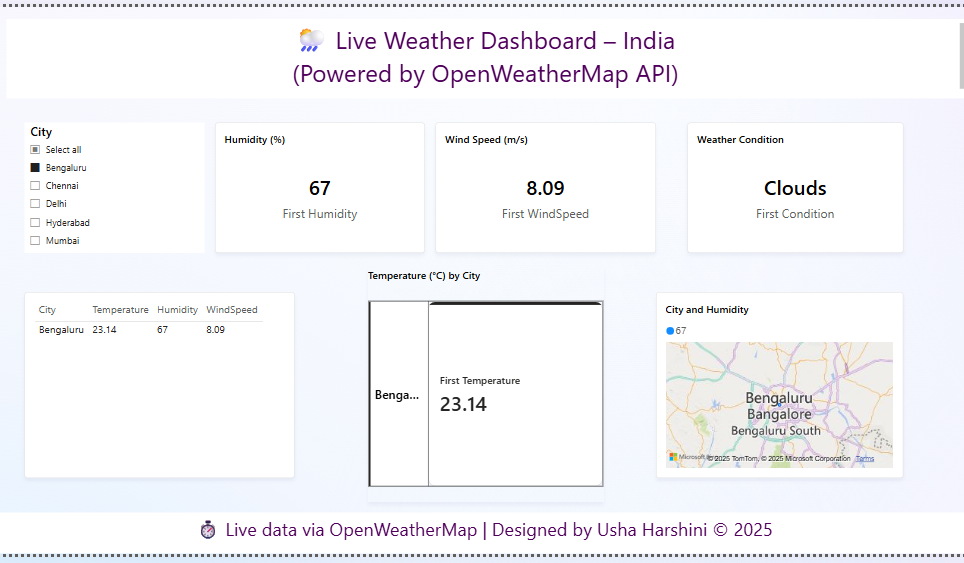

The dashboard page shown, as its layout file describes it:
{"tool":"powerbi","page":{"name":"Page 1","canvas":[1280,720],"ordinal":0},"visuals":[{"type":"textbox","box":[9.9,15.8,1269.5,104.8],"z":0},{"type":"slicer","fields":{"Values":["Query1.City"]},"box":[33.6,152.3,237.3,172],"z":1},{"type":"card","title":"Humidity (%)","fields":{"Values":["Min(Query1.Humidity)"]},"box":[284.7,152.3,276.8,172],"z":6},{"type":"card","title":"Wind Speed (m/s)","fields":{"Values":["Min(Query1.WindSpeed)"]},"box":[575.4,152.3,290.7,172],"z":7},{"type":"card","title":"Weather Condition","fields":{"Values":["Min(Query1.Condition)"]},"box":[907.6,152.3,284.7,172],"z":8},{"type":"tableEx","fields":{"Values":["Query1.City","Query1.Temperature","Query1.Humidity","Query1.WindSpeed"]},"box":[33.6,375.7,355.9,245.2],"z":9},{"type":"map","fields":{"Category":["Query1.City"],"Series":["Query1.Humidity"]},"box":[866.1,375.7,326.3,245.2],"z":11},{"type":"cardVisual","title":"Temperature (°C) by City","fields":{"Rows":["Query1.City"],"Data":["Min(Query1.Temperature)"]},"box":[486.4,344.1,310.4,308.5],"z":12},{"type":"textbox","box":[0,666.4,1279.4,53.4],"z":13}]}

Visuals, with their boxes on the page's 1280x720 design canvas (x1, y1, x2, y2). These are canvas units, not pixel positions in the 964x563 screenshot, which may show the page scaled, cropped or inside an application window:
textbox: select_region(10, 16, 1279, 121)
slicer - Query1.City: select_region(34, 152, 271, 324)
"Humidity (%)" card: select_region(285, 152, 562, 324)
"Wind Speed (m/s)" card: select_region(575, 152, 866, 324)
"Weather Condition" card: select_region(908, 152, 1192, 324)
tableEx - Query1.City x Query1.Temperature: select_region(34, 376, 390, 621)
map - Query1.City x Query1.Humidity: select_region(866, 376, 1192, 621)
"Temperature (°C) by City" cardVisual: select_region(486, 344, 797, 653)
textbox: select_region(0, 666, 1279, 720)
